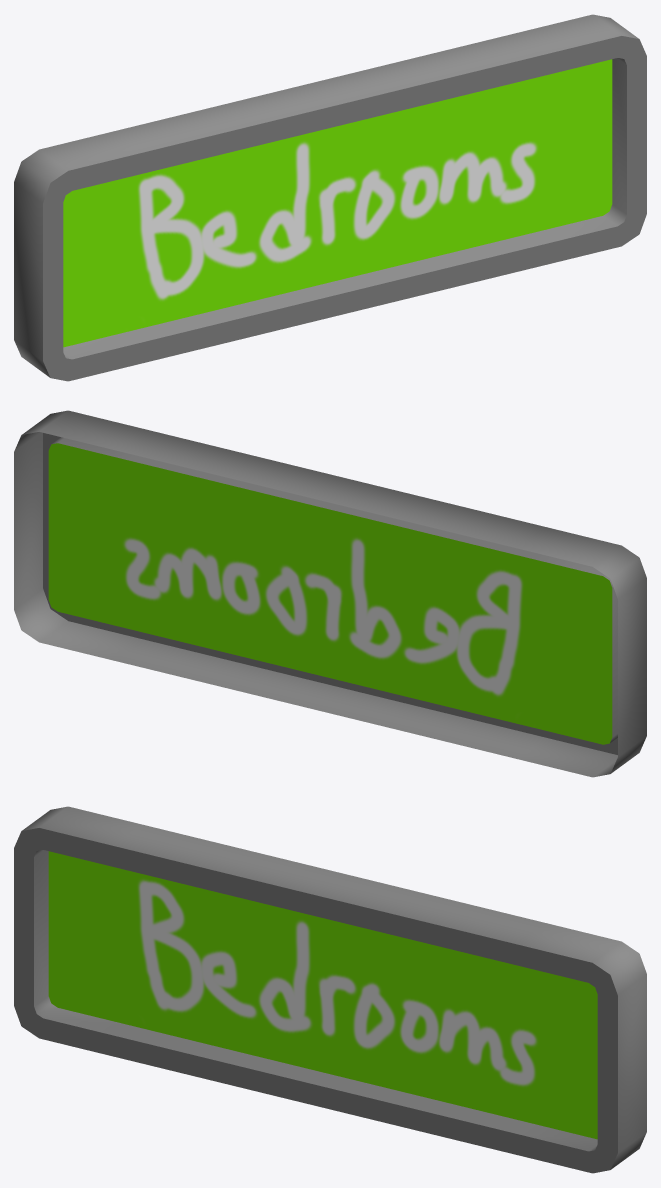
File: Bedroom.fbx
3 renders of one model, top to bottom at view 1: azimuth 30°, elevation 25°; view 2: azimuth 150°, elevation 25°; view 3: azimuth 330°, elevation 25°, orthographic.
Visible parts, largest first — view 1: Bedroom; view 2: Bedroom; view 3: Bedroom.
Part boxes in pixels (box(x1,y1,x2,y2)): Bedroom: box(14, 14, 646, 381); Bedroom: box(14, 410, 646, 777); Bedroom: box(14, 806, 646, 1173).
Size of the model in its own units: 150 by 50 by 12.53.
